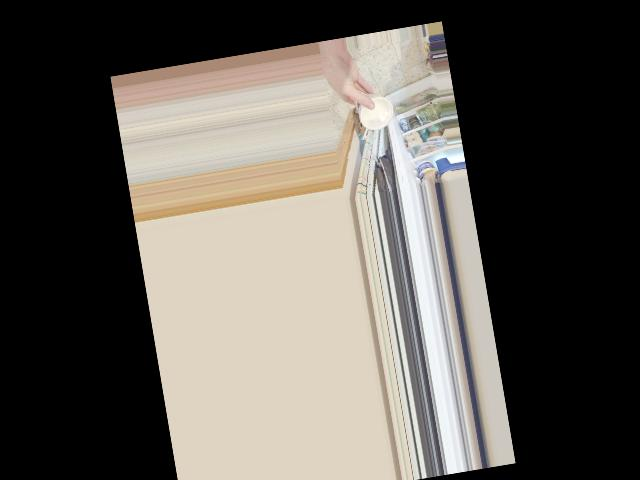cotage: (351, 94, 393, 136)
